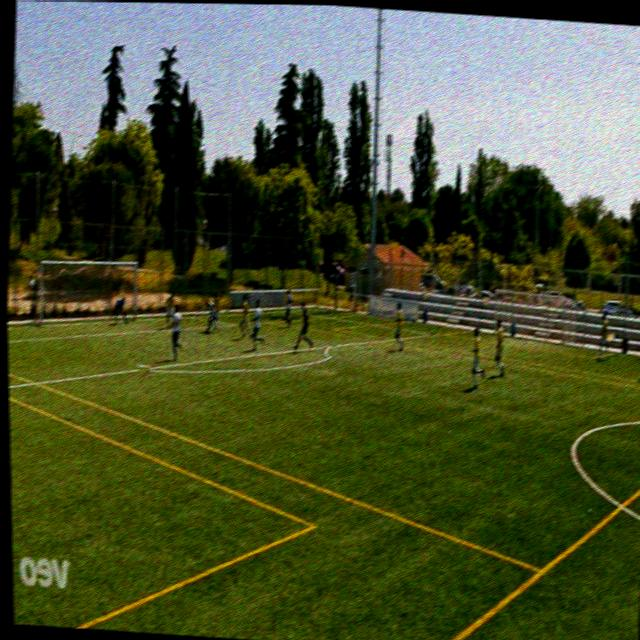bigarea_top_outter: (429, 326, 440, 340)
bottom_arc_area_intersection: (136, 361, 150, 379)
corner: (319, 305, 326, 312)
smallarea_top_inner: (227, 317, 239, 333)
smallarea_top_outter: (189, 312, 198, 323)
top_arc_area_intersection: (322, 336, 337, 356)
